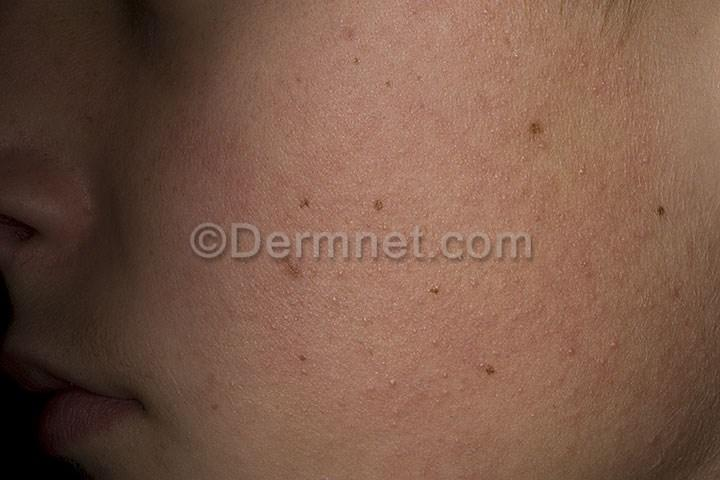edema 1: (325, 262, 635, 430)
